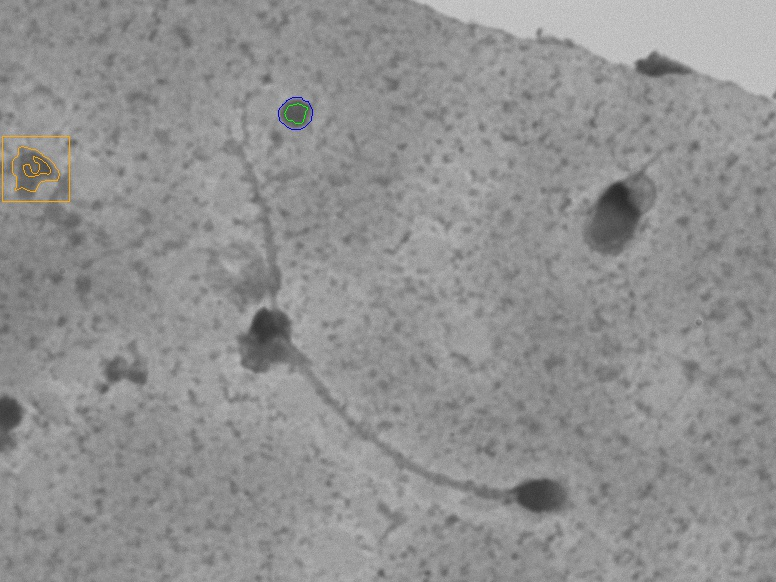Abnormal: (203, 107, 614, 568)
